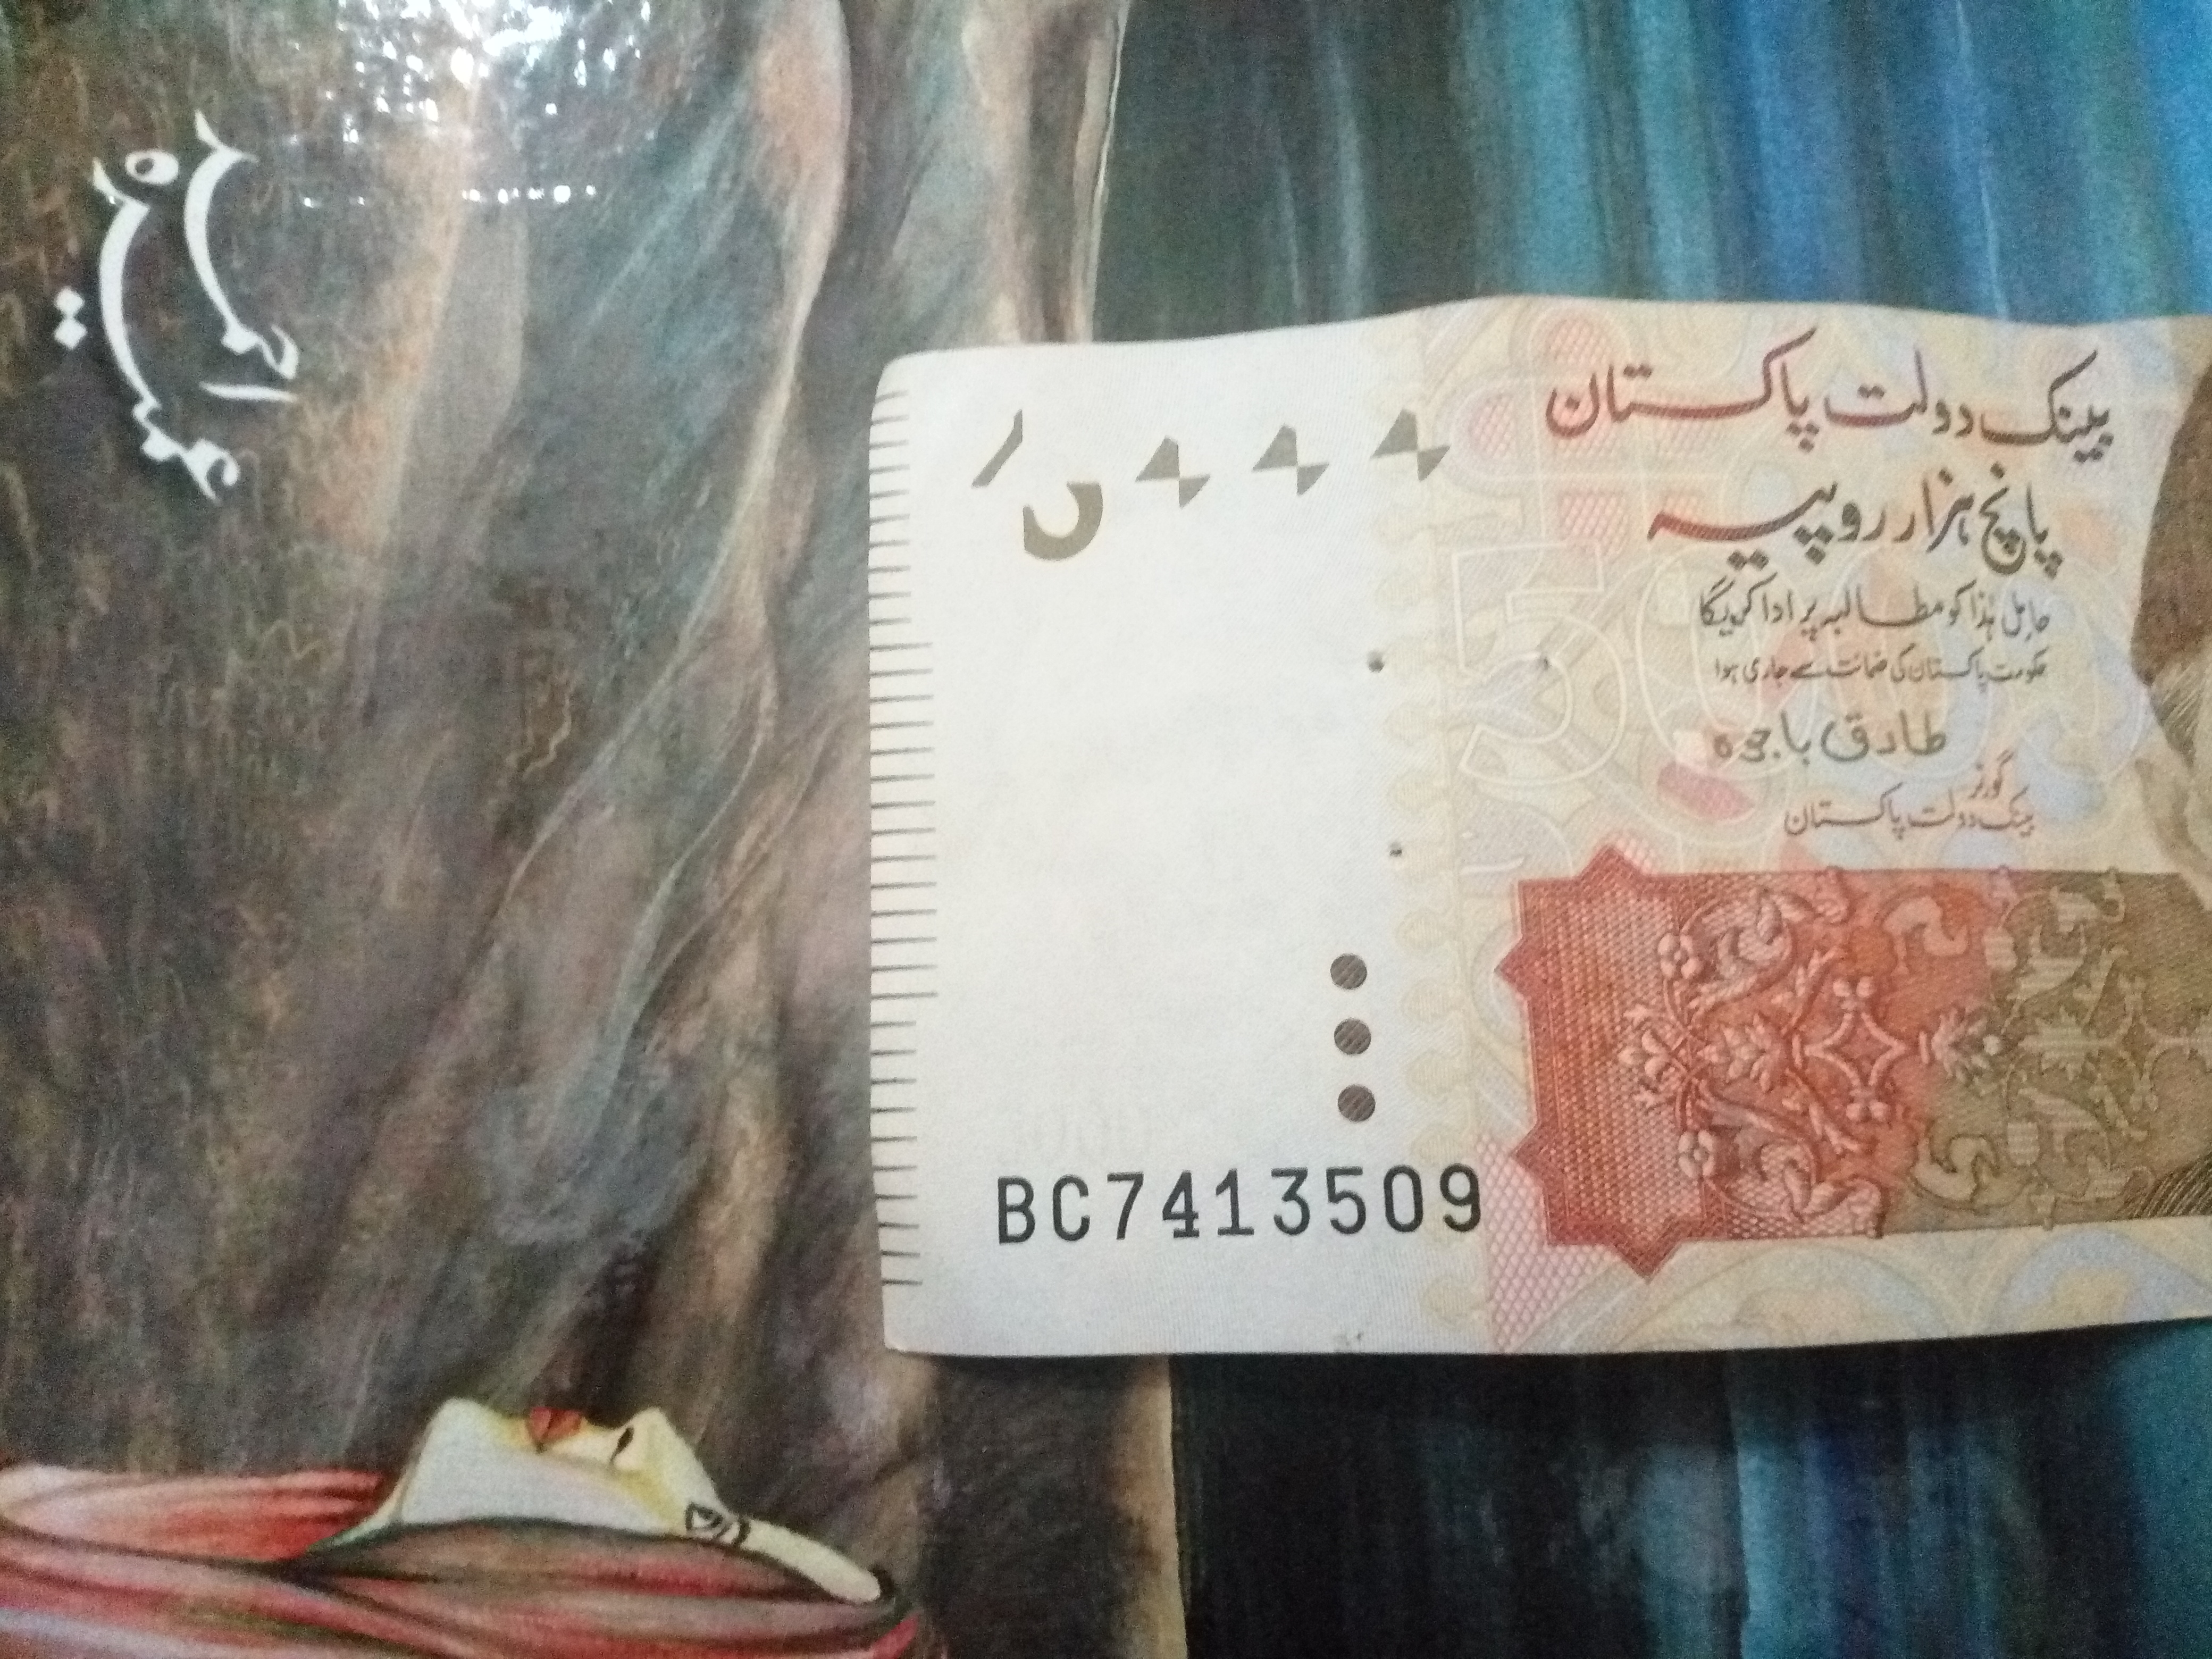5000 rupee: (752, 286, 2196, 1448), (1282, 896, 1474, 1161)
